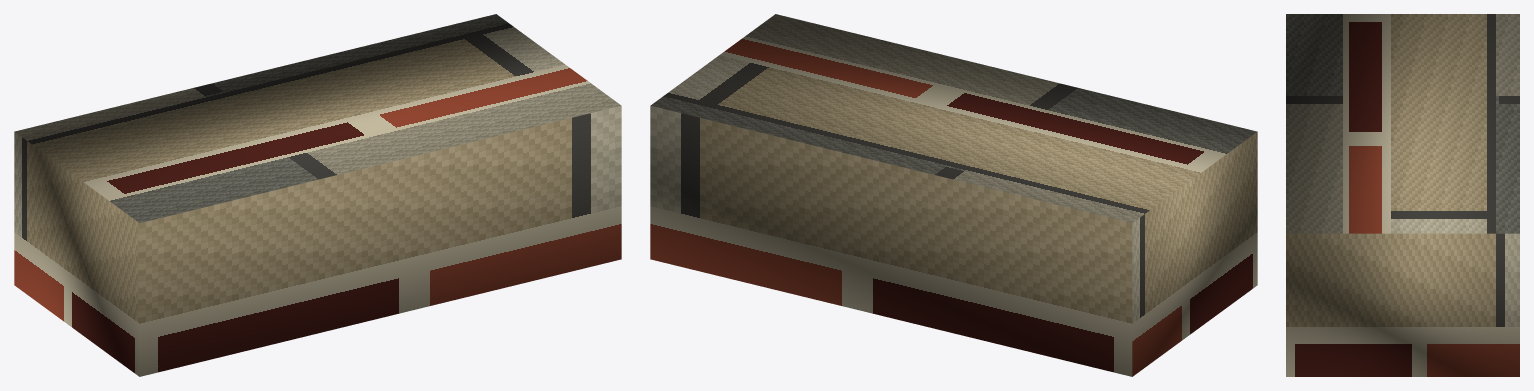
Rendered from byzantine stone slab.glb.
3 views of the same model, side by side, from view 1: azimuth 30°, elevation 25°; view 2: azimuth 150°, elevation 25°; view 3: azimuth 270°, elevation 25° (orthographic). The views are drawn at different scales.
Parts seen in each view (by area): view 1: Byzantine Stone Slab; view 2: Byzantine Stone Slab; view 3: Byzantine Stone Slab.
Boxes of the visible parts, x1,y1,x2,y2 form: Byzantine Stone Slab: (14,14,621,376); Byzantine Stone Slab: (650,14,1257,376); Byzantine Stone Slab: (1286,14,1519,376).
Size of the model in its own units: 0.5 by 0.1524 by 0.225.
1 material, 1 textured.
